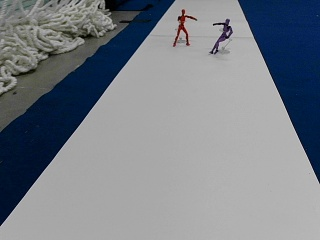pedestrian: (173, 8, 197, 47), (210, 17, 232, 53)
